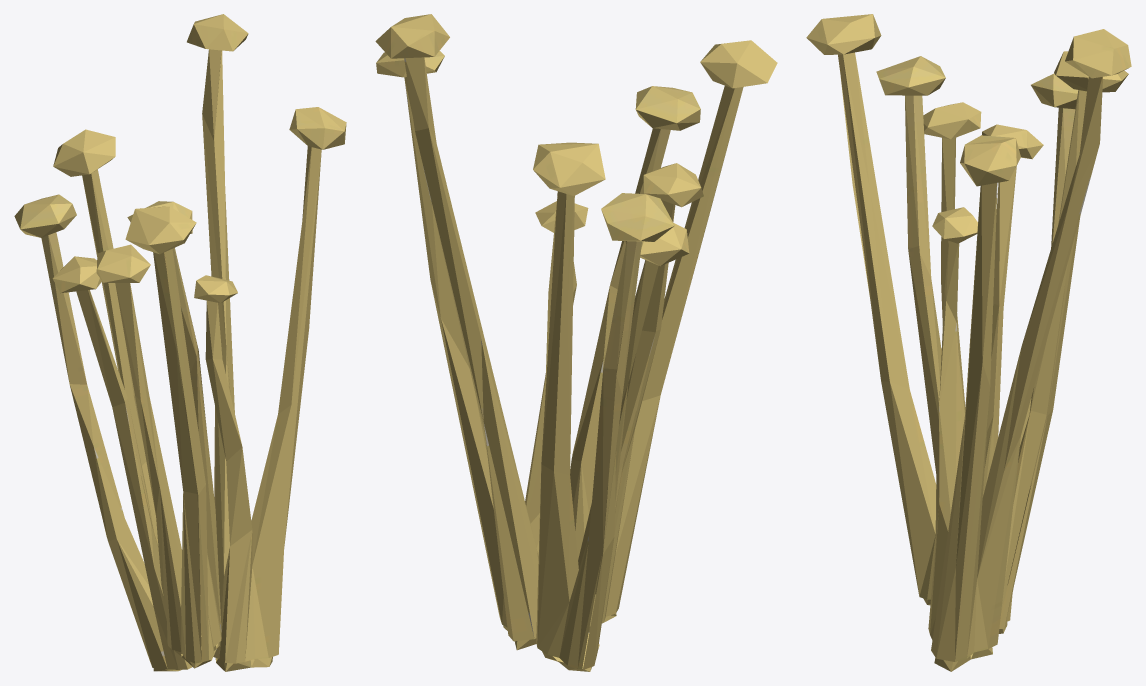
File: P_Jingzhenggu_01.obj
3 views of the same model, side by side, from view 1: azimuth 30°, elevation 25°; view 2: azimuth 150°, elevation 25°; view 3: azimuth 270°, elevation 25° (orthographic). The views are drawn at different scales.
Bounding box in the file's own units: 0.2313 × 0.4441 × 0.2044.
Materials: 3 (3 with a texture image).
